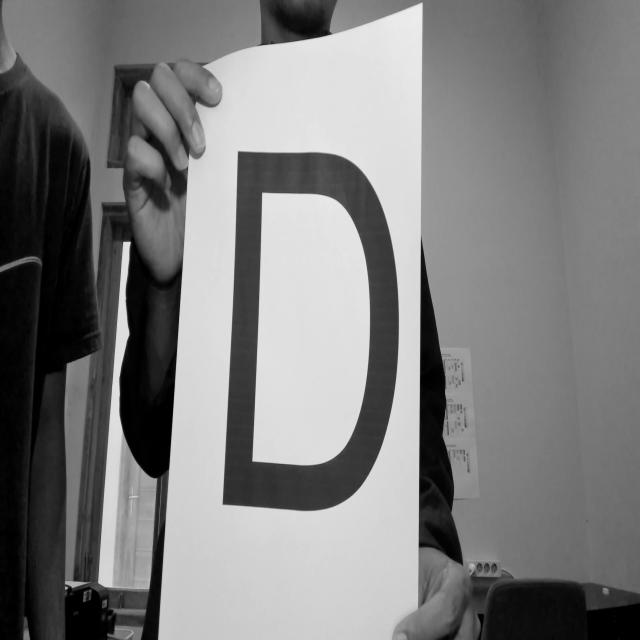d: (218, 133, 410, 553)
